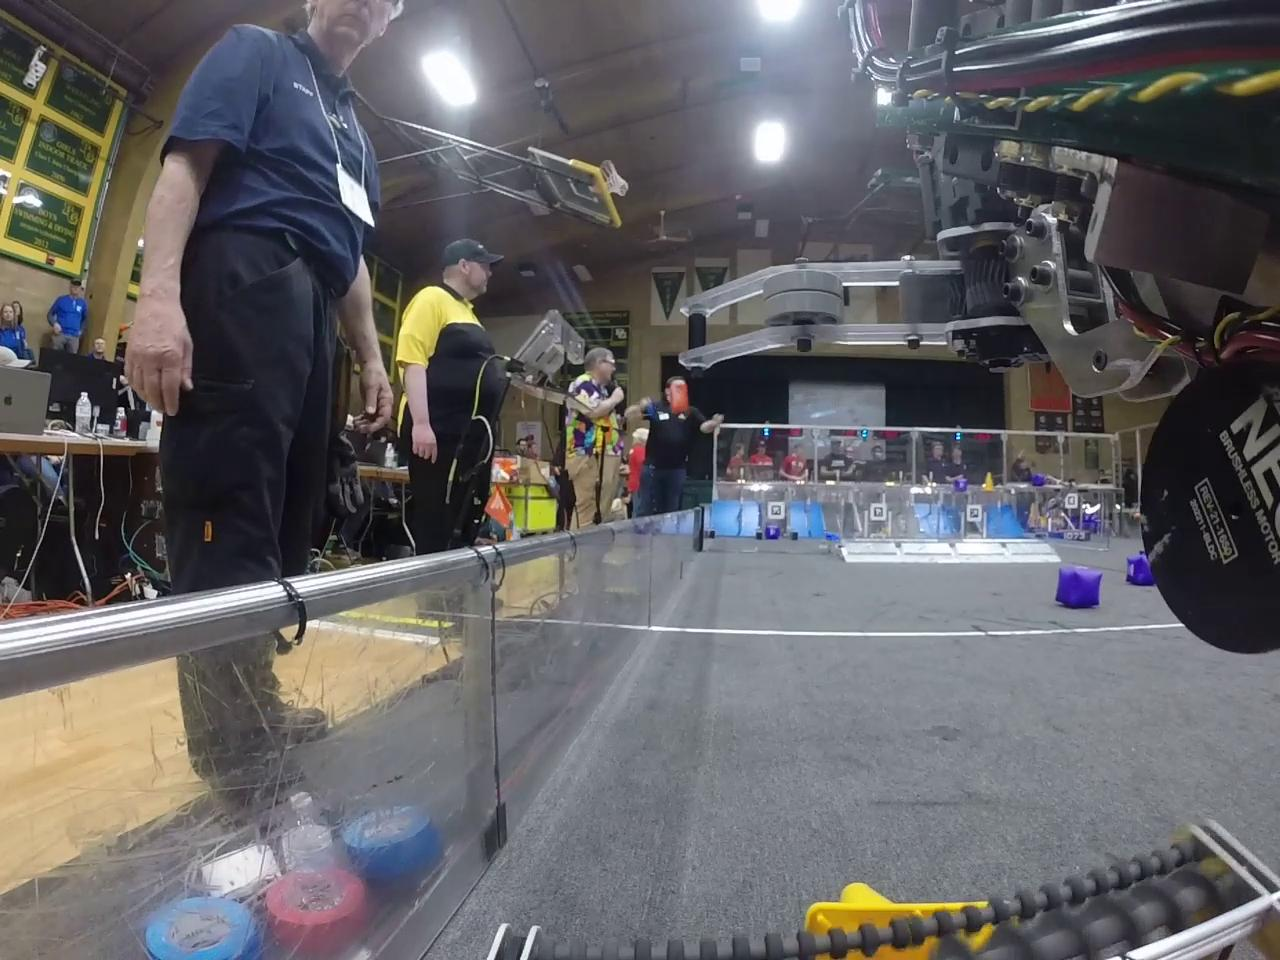robot: (1044, 516, 1090, 541)
